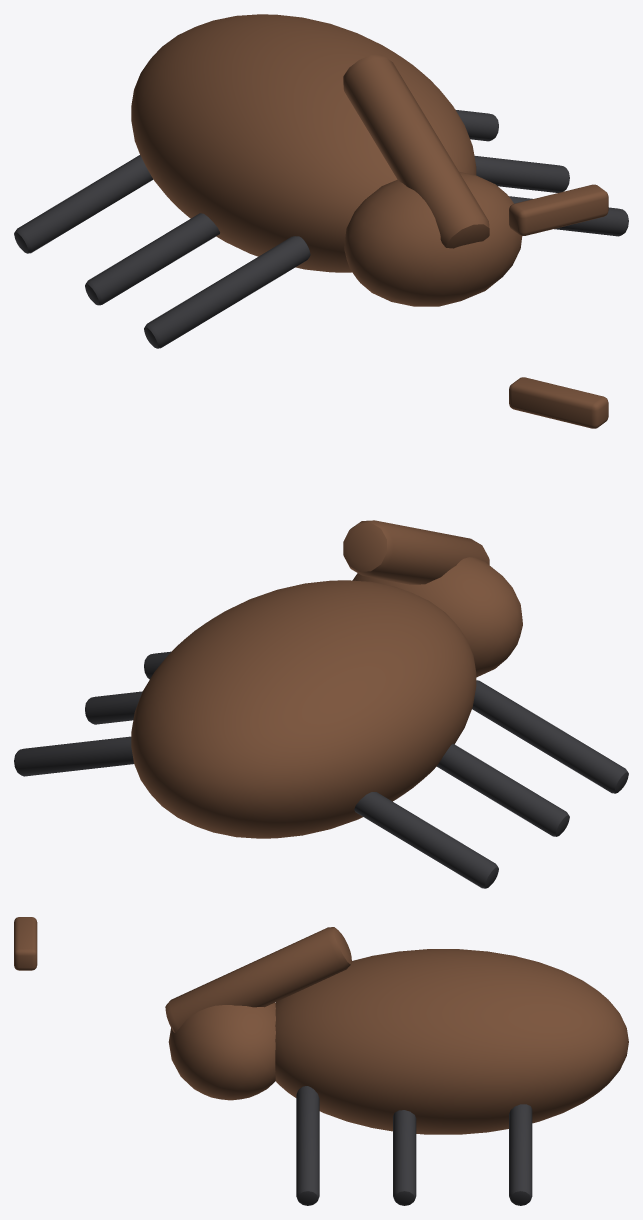
The model's file is kabuto.glb.
3 renders of one model, top to bottom at view 1: azimuth 30°, elevation 25°; view 2: azimuth 150°, elevation 25°; view 3: azimuth 270°, elevation 25°, orthographic. The views are drawn at different scales.
Visible parts, largest first — view 1: kabuto; view 2: kabuto; view 3: kabuto.
Part boxes in pixels (x1=…): kabuto: x1=14, y1=14, x2=628, y2=348; kabuto: x1=14, y1=377, x2=628, y2=888; kabuto: x1=14, y1=917, x2=628, y2=1205.
Bounding box in the file's own units: 0.1169 × 0.0542 × 0.159.
